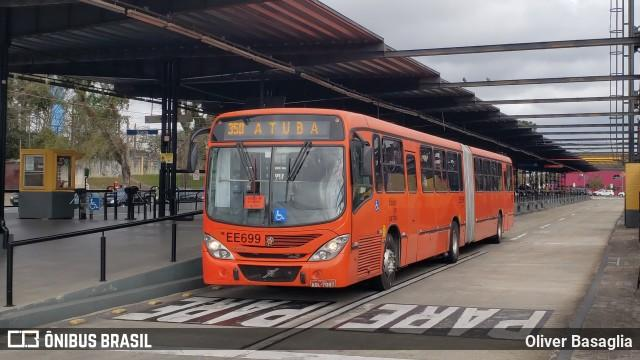ATUBA: (250, 120, 321, 136)
